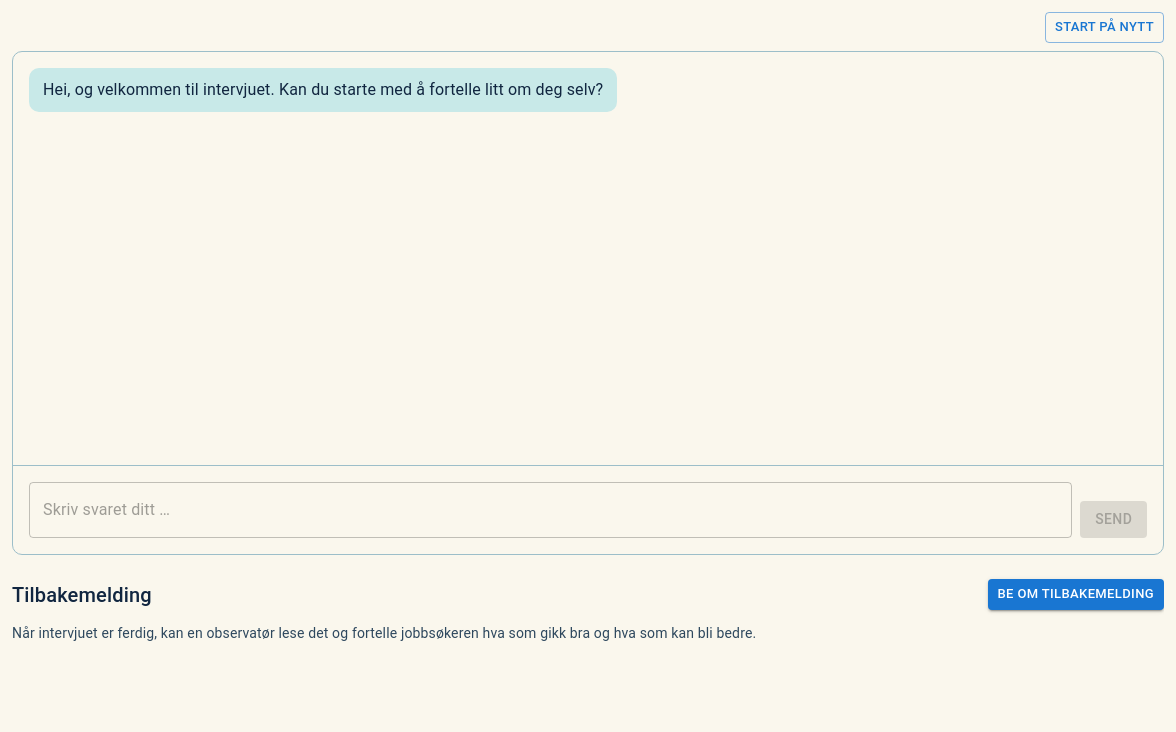
Test: TestChat › lets the counsellor rate the agent’s replies, but not the fixed greeting
This screenshot has width=1176, height=732.
In the text box named "Melding": (551, 510) [43,498,1058,521], type "Hei"
Then press Enter
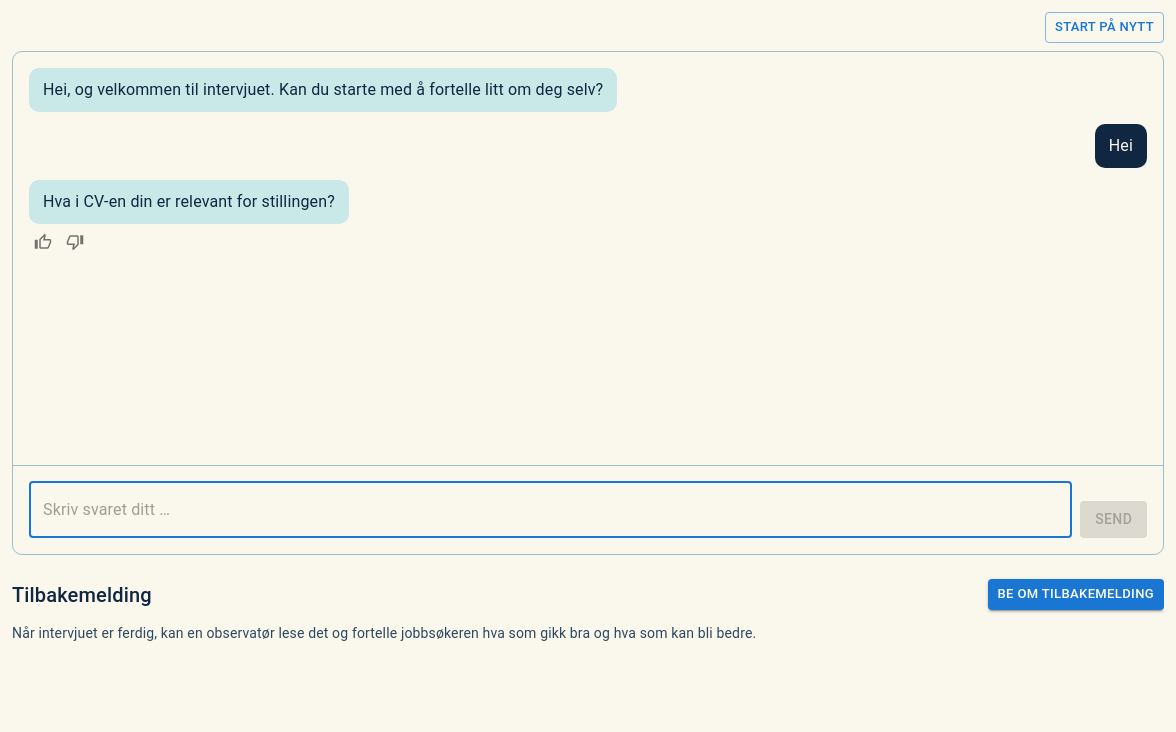
Expected: the list item "Hva i CV-en din er relevant for stillingen?" is shown, [29,180,349,224]
Expected: the number of elements named "Vurder svaret" is 1, [29,228,93,256]
Expected: the button named "Bra" is shown, [29,228,57,256]
